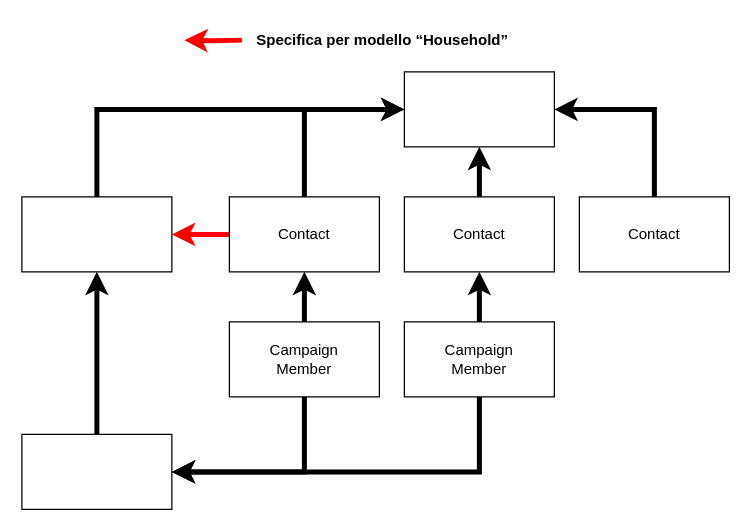
This 751x531 diagram has some shape labels left out. The shapes that lost their labels are listed below. From the top down, each one's box as (x1, y1, x2, y2) in pixels, then its label:
(403, 71, 554, 147): Account (Household)
(21, 196, 172, 272): Opportunity (Donazione)
(21, 433, 172, 509): Campaign
